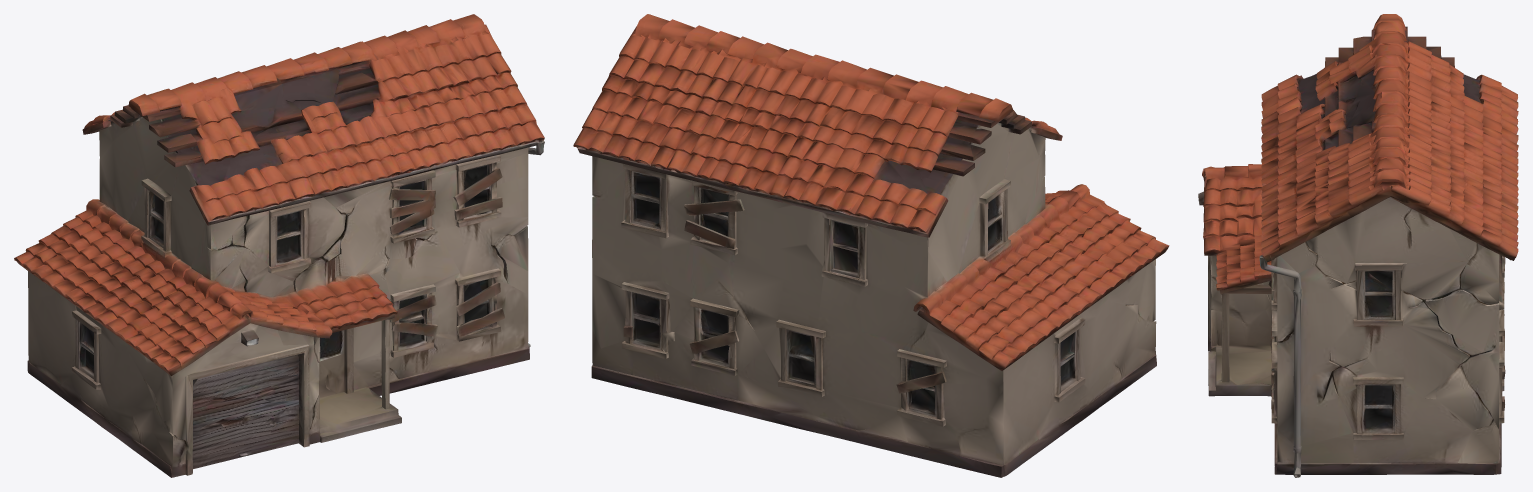
File: house_two_story_b_idle.glb
The picture shows the model from 3 angles, left to right: view 1: azimuth 30°, elevation 25°; view 2: azimuth 150°, elevation 25°; view 3: azimuth 270°, elevation 25°; orthographic projection. The views are drawn at different scales.
Parts seen in each view (by area): view 1: tripo_node_8aed7358-fab0-4b09-a2b6-c4fddd24dd77; view 2: tripo_node_8aed7358-fab0-4b09-a2b6-c4fddd24dd77; view 3: tripo_node_8aed7358-fab0-4b09-a2b6-c4fddd24dd77.
Part boxes in pixels (x1=…): tripo_node_8aed7358-fab0-4b09-a2b6-c4fddd24dd77: x1=14, y1=14, x2=544, y2=477; tripo_node_8aed7358-fab0-4b09-a2b6-c4fddd24dd77: x1=573, y1=14, x2=1169, y2=477; tripo_node_8aed7358-fab0-4b09-a2b6-c4fddd24dd77: x1=1198, y1=14, x2=1518, y2=477.
Bounding box in the file's own units: 9 × 6.29 × 6.13.
Materials: 1 (1 with a texture image).
